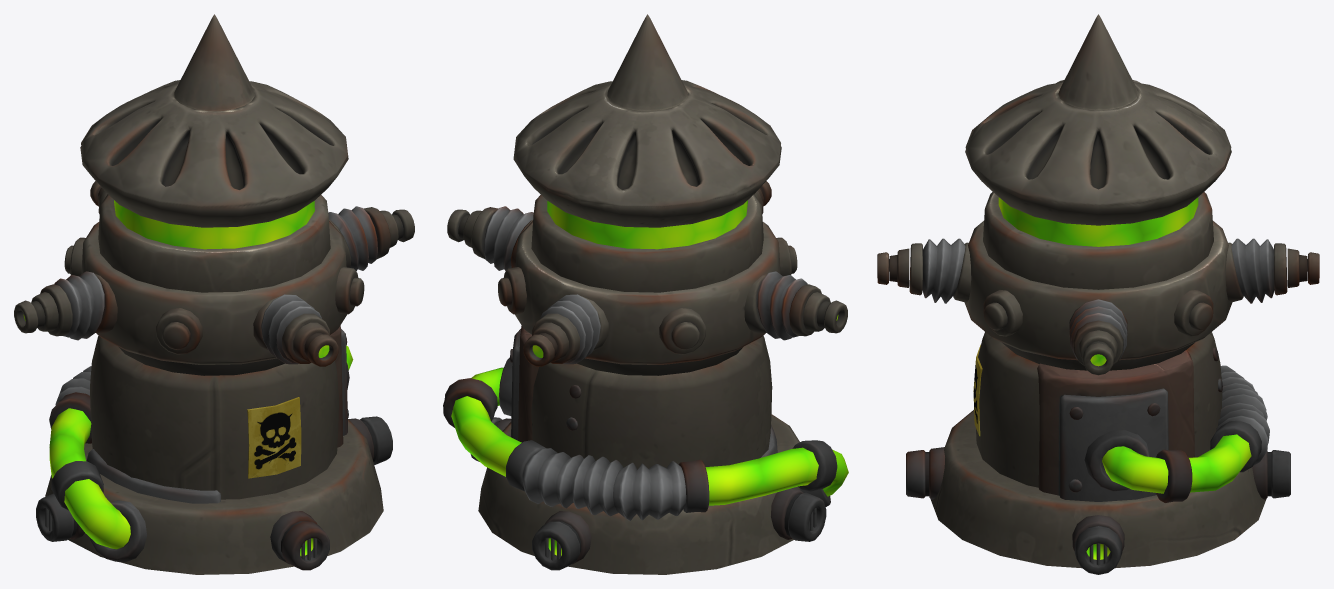
Rendered from SM_TowerDefense_Venom_Lv3.fbx.
3 views of the same model, side by side, from view 1: azimuth 30°, elevation 25°; view 2: azimuth 150°, elevation 25°; view 3: azimuth 270°, elevation 25° (orthographic).
Parts seen in each view (by area): view 1: SM_TowerDefense_Venom_Lv3; view 2: SM_TowerDefense_Venom_Lv3; view 3: SM_TowerDefense_Venom_Lv3.
Boxes of the visible parts, x1,y1,x2,y2 form: SM_TowerDefense_Venom_Lv3: (14,14,414,574); SM_TowerDefense_Venom_Lv3: (443,14,848,574); SM_TowerDefense_Venom_Lv3: (877,14,1319,574).
Bounding box in the file's own units: 1483 × 1800 × 1483.
